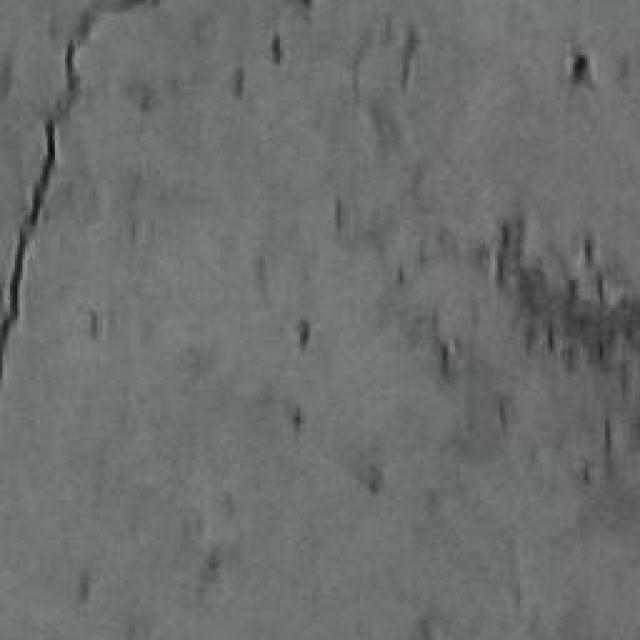Diagonal: (0, 0, 115, 406)
